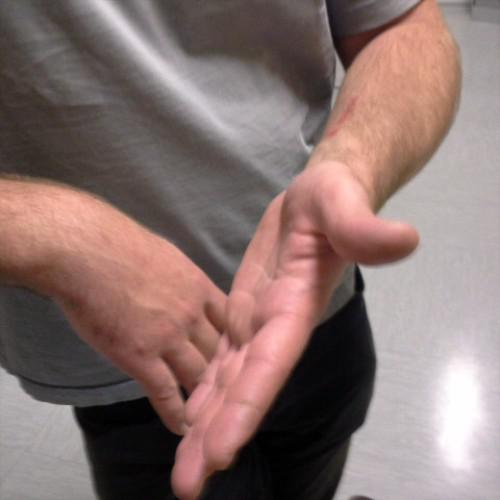paper: (168, 165, 409, 500)
